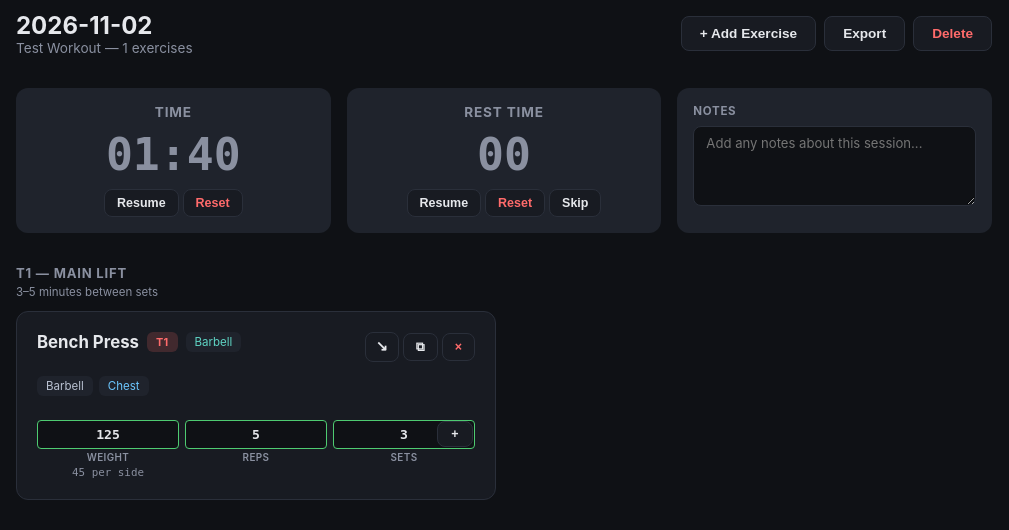
Test case: duplicating an exercise within a session › shows plates on a copy of a pre-equipment barbell record once a weight is entered
Expected: the text "Bench Press" is shown, [37,332,139,352]
Expected: the text with test id "plate-breakdown" reads "45 per side", [72,466,144,479]
Click the button titled "Duplicate exercise" at coordinates (420, 347), box [403,333,438,361]
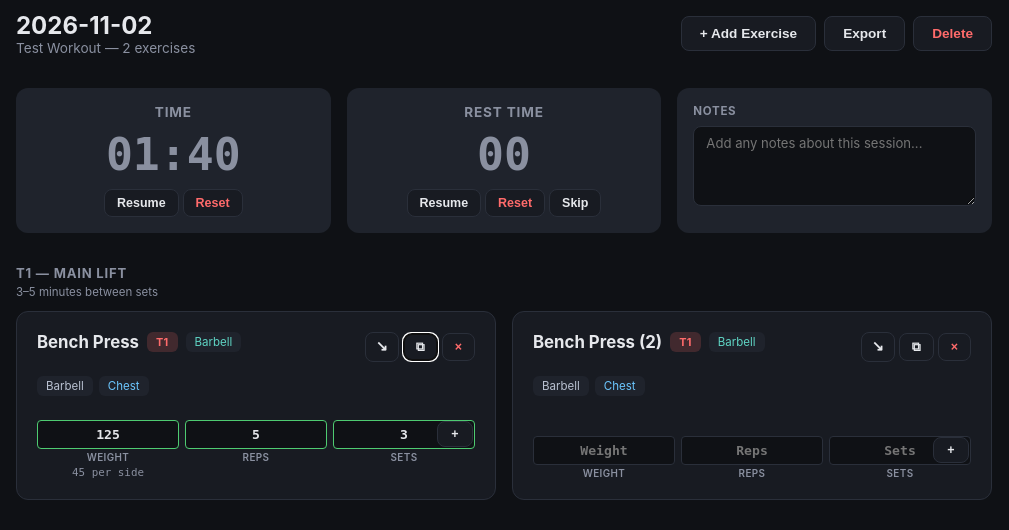
Expected: the text "Bench Press (2)" is shown, [533,332,662,352]
Expected: the field with placeholder "Weight" is empty
Type "137" into the field with placeholder "Weight" at coordinates (604, 450), box [533,436,675,465]
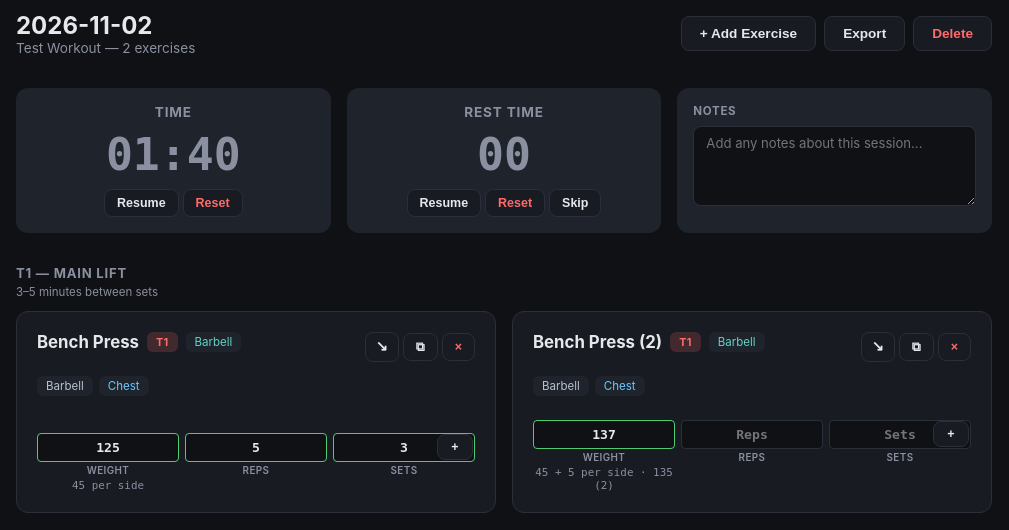
Expected: the text with test id "plate-breakdown" shows "45 + 5 per side", [535,466,673,492]
Expected: the text with test id "plate-breakdown" shows "135 (2)", [535,466,673,492]
